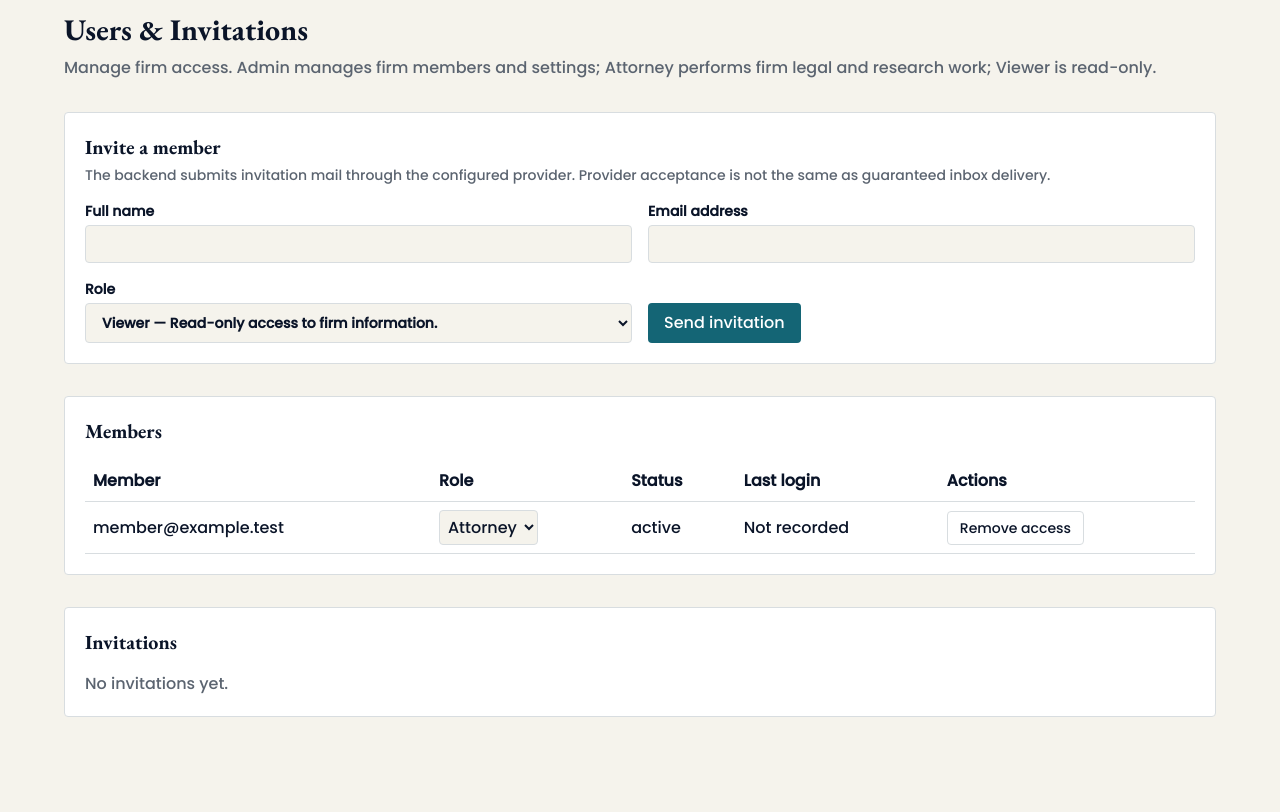
AdminUsersScreen › removes an active member through the canonical Admin API and preserves inactive history in the list
The width and height of the screenshot is (1280, 812).
Check: the text "member@example.test" is shown, box [85, 502, 431, 554]
Click the button "Remove access": (1015,528) [947, 510, 1084, 544]
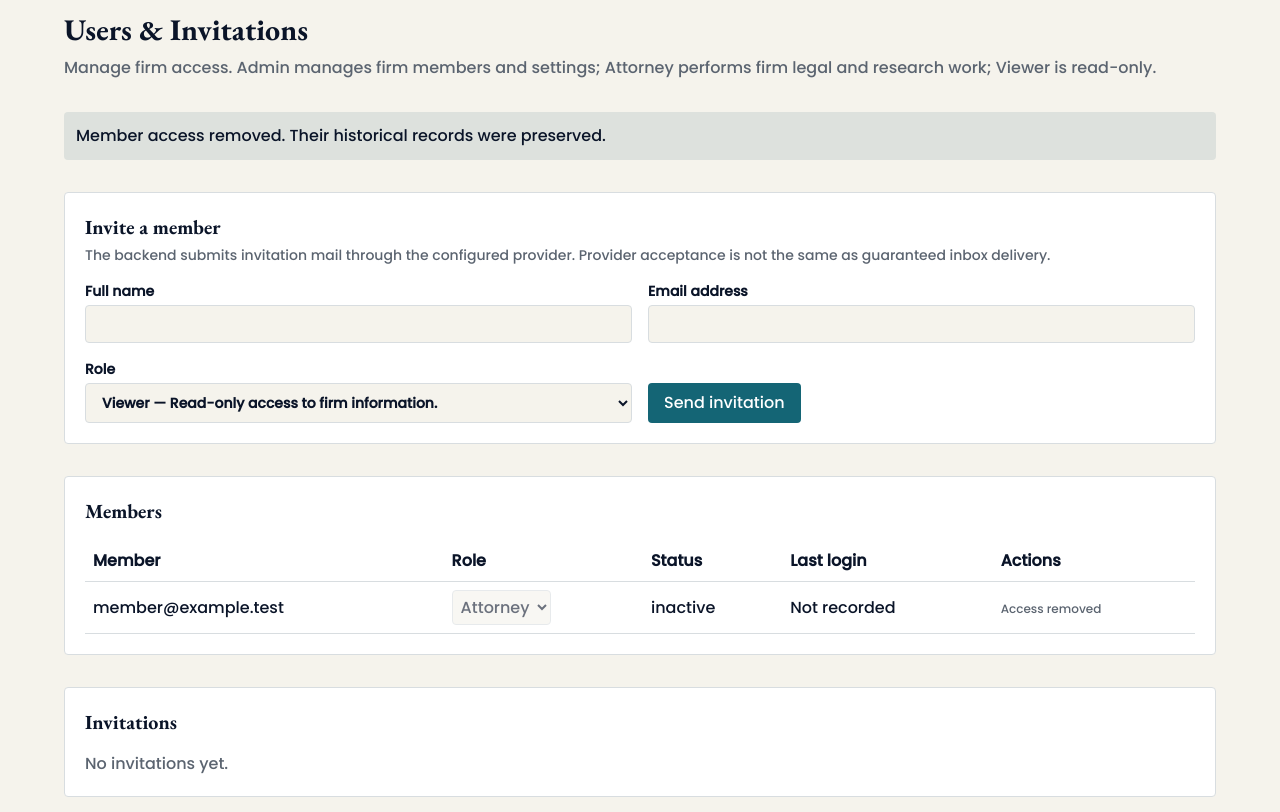
Check: the text "Access removed" is shown, box [1001, 600, 1101, 616]
Check: the dropdown named "Role for member@example.test" is disabled, box [452, 590, 551, 625]
